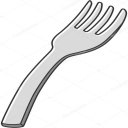fork: (7, 1, 124, 128)
